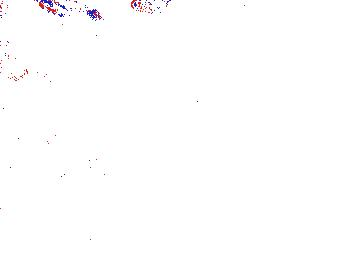X-ray fish: (66, 147, 113, 187), (1, 37, 37, 84)
red belly glassfish: (131, 1, 171, 15)
redtail glassfish: (36, 1, 104, 28)
